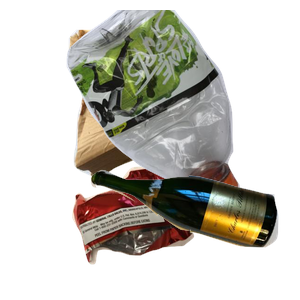cardboard: (66, 27, 242, 197)
glass: (88, 167, 300, 300)
plastic: (64, 10, 300, 190)
trash: (70, 162, 257, 300)
